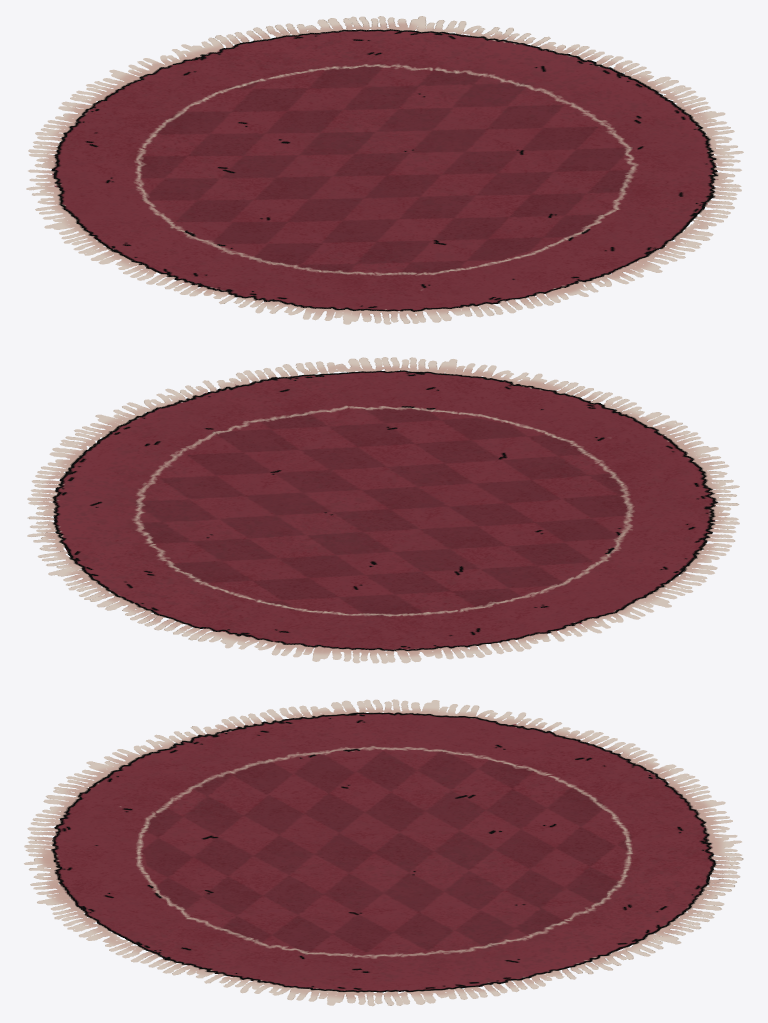
Rendered from Carpet_02.fbx.
3 views of the same model, one above another, from view 1: azimuth 30°, elevation 25°; view 2: azimuth 150°, elevation 25°; view 3: azimuth 270°, elevation 25° (orthographic).
Visible parts, largest first — view 1: Cylinder.254; view 2: Cylinder.254; view 3: Cylinder.254.
Part boxes in pixels (<box>): Cylinder.254: <box>26,16,743,324</box>; Cylinder.254: <box>27,357,739,663</box>; Cylinder.254: <box>24,699,743,1006</box>.
Bounding box in the file's own units: 1270 × 2.06 × 1270.
